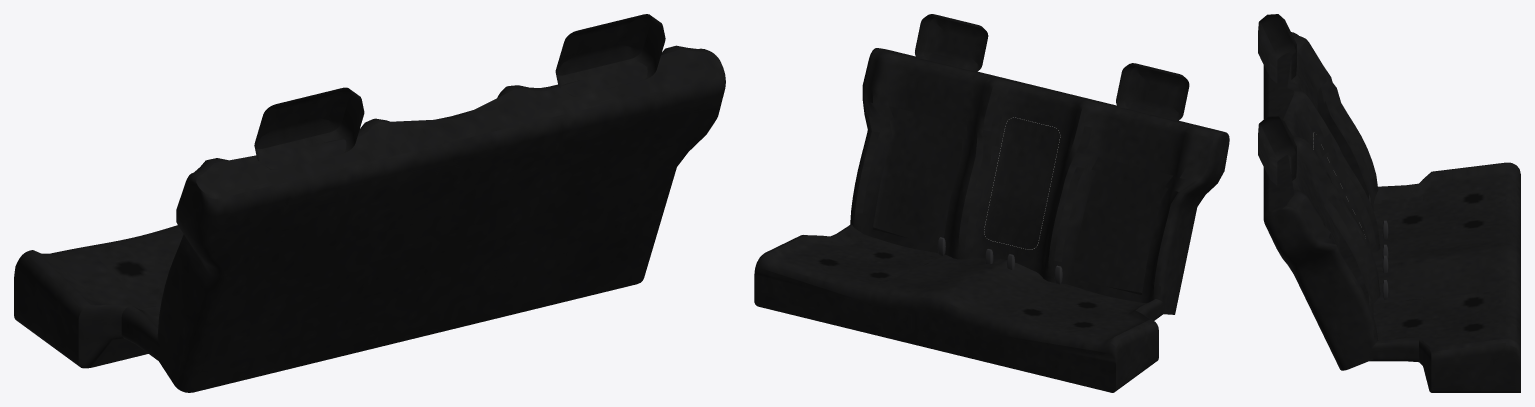
The model's file is seat_rear.fbx.
3 renders of one model, left to right at view 1: azimuth 30°, elevation 25°; view 2: azimuth 150°, elevation 25°; view 3: azimuth 270°, elevation 25°, orthographic. The views are drawn at different scales.
Visible parts, largest first — view 1: CH_Int_Seat_Rear; view 2: CH_Int_Seat_Rear; view 3: CH_Int_Seat_Rear.
Boxes of the visible parts, x1=… form: CH_Int_Seat_Rear: x1=14, y1=14, x2=725, y2=392; CH_Int_Seat_Rear: x1=754, y1=14, x2=1229, y2=392; CH_Int_Seat_Rear: x1=1258, y1=14, x2=1520, y2=392.
Bounding box in the file's own units: 1.33 × 0.7636 × 0.8051.
